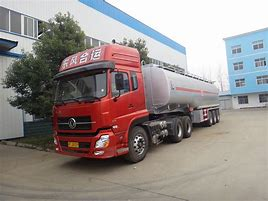oil truck: (42, 38, 226, 162)
